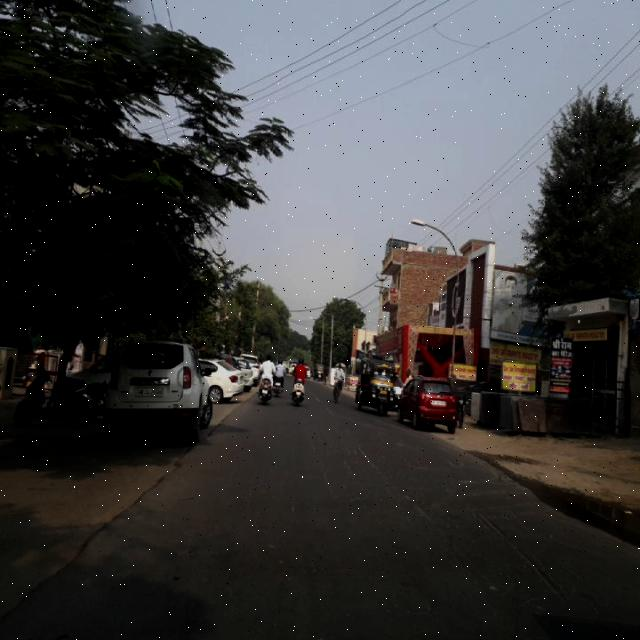D00: (476, 505, 574, 611)
